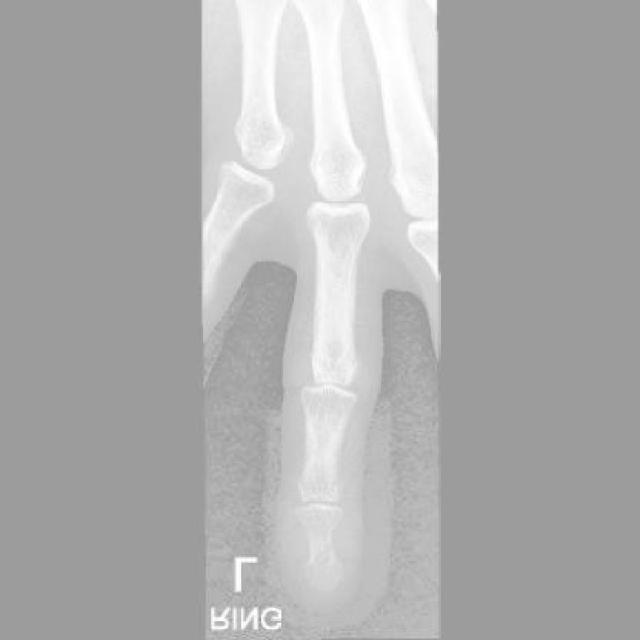Fracture: (294, 538, 348, 600)
